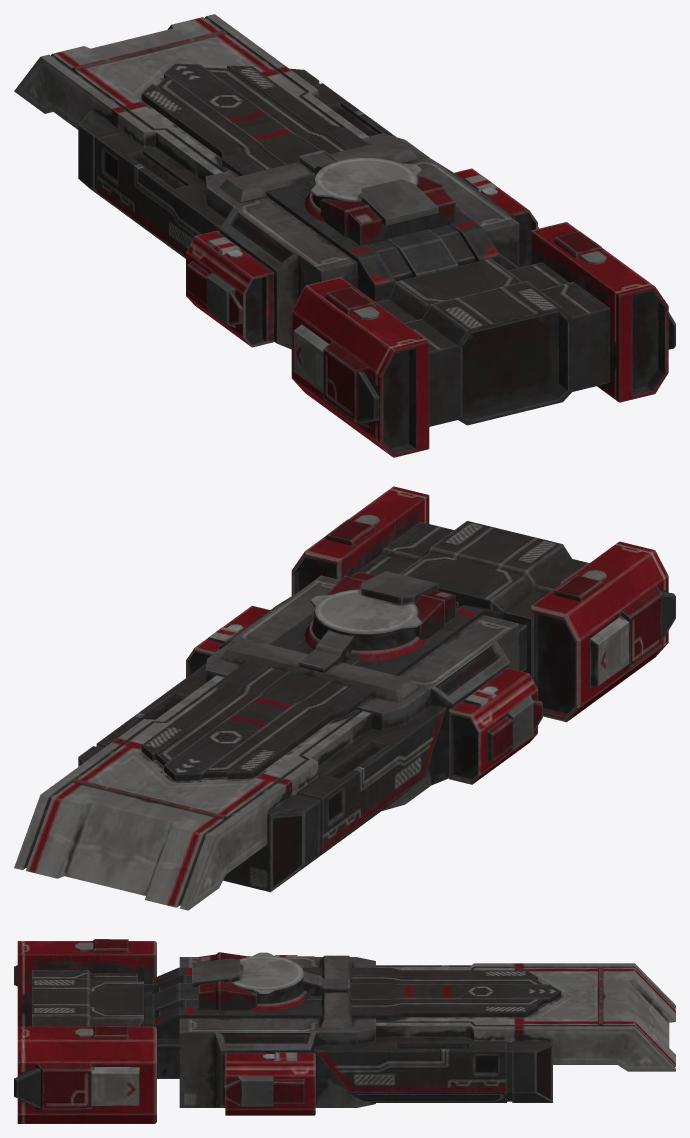
The model's file is imperial_red.glb.
The picture shows the model from 3 angles, top to bottom: view 1: azimuth 30°, elevation 25°; view 2: azimuth 150°, elevation 25°; view 3: azimuth 270°, elevation 25°; orthographic projection. The views are drawn at different scales.
Visible parts, largest first — view 1: imperial_red; view 2: imperial_red; view 3: imperial_red.
Boxes of the visible parts, box(x1,y1,x2,y2) form: imperial_red: box(14, 14, 675, 457); imperial_red: box(14, 486, 675, 910); imperial_red: box(14, 939, 675, 1123).
Bounding box in the file's own units: 0.4167 × 0.1781 × 1.
1 material, 1 textured.
